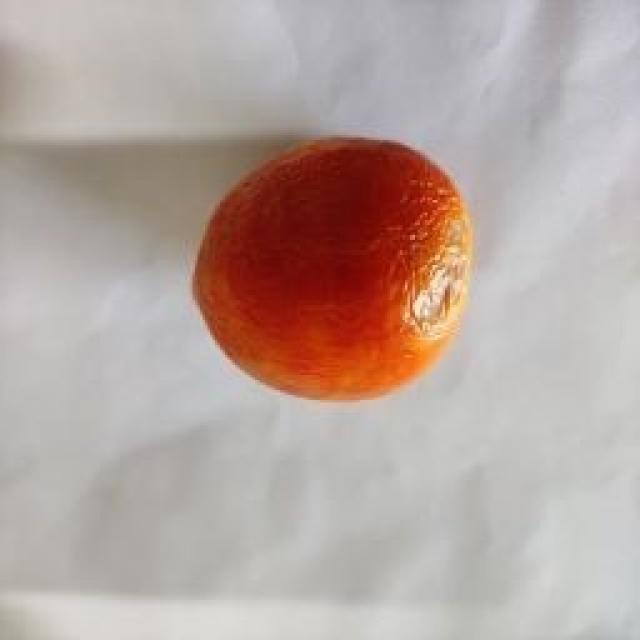overripe: (188, 132, 482, 406)
